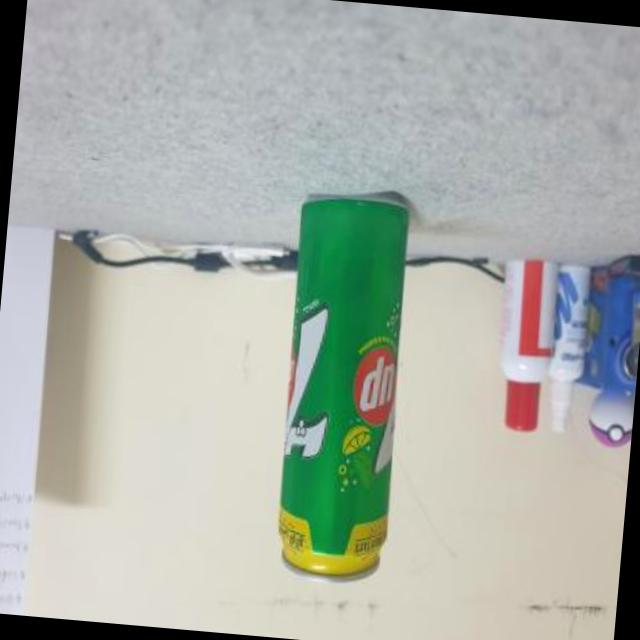metal: (281, 202, 411, 584)
